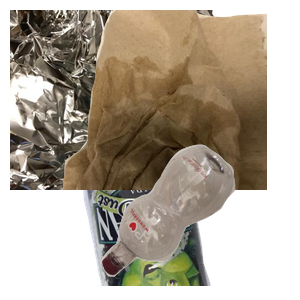glass: (78, 120, 281, 300)
metal: (10, 10, 229, 190)
plastic: (99, 142, 300, 300)
trash: (60, 10, 300, 190)
